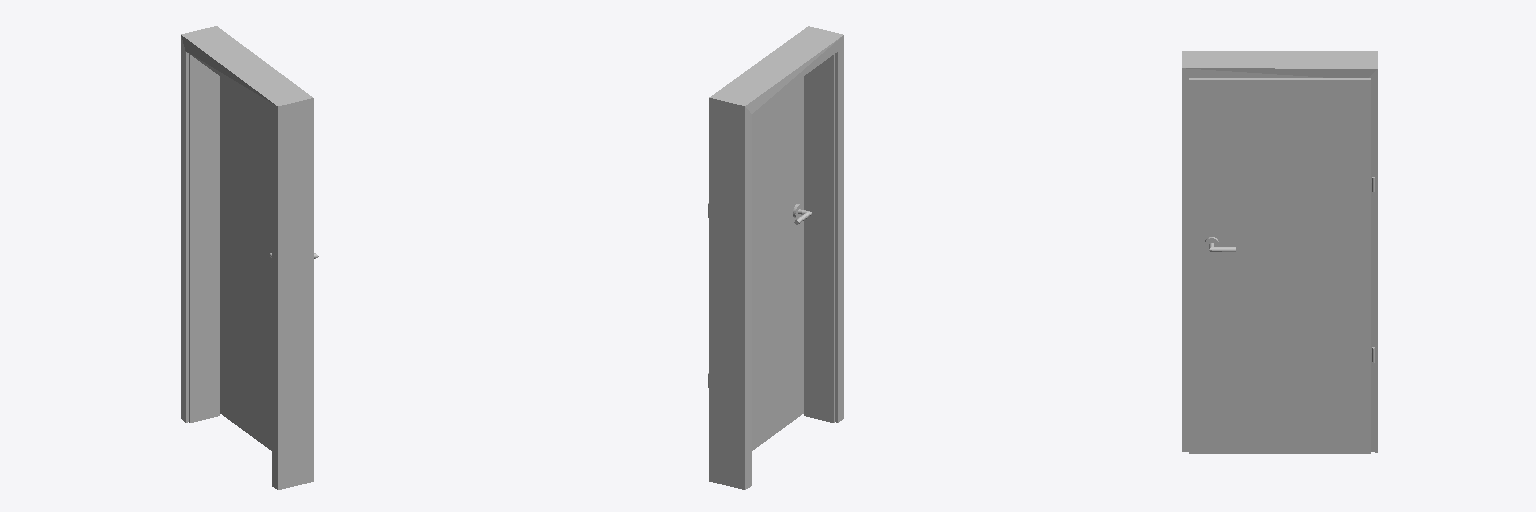
File: door113.obj
3 views of the same model, side by side, from view 1: azimuth 30°, elevation 25°; view 2: azimuth 150°, elevation 25°; view 3: azimuth 270°, elevation 25° (orthographic).
Visible parts, largest first — view 1: Cylinder.005, Cylinder.001; view 2: Cylinder.005, Cylinder.001; view 3: Cylinder.001, Cylinder.005.
Boxes of the visible parts, x1=… form: Cylinder.005: x1=181, y1=26, x2=313, y2=489; Cylinder.001: x1=220, y1=77, x2=271, y2=450; Cylinder.005: x1=708, y1=26, x2=843, y2=489; Cylinder.001: x1=708, y1=77, x2=803, y2=450; Cylinder.001: x1=1189, y1=78, x2=1374, y2=453; Cylinder.005: x1=1182, y1=51, x2=1377, y2=452.
Size of the model in its own units: 0.3039 by 2.05 by 0.95.